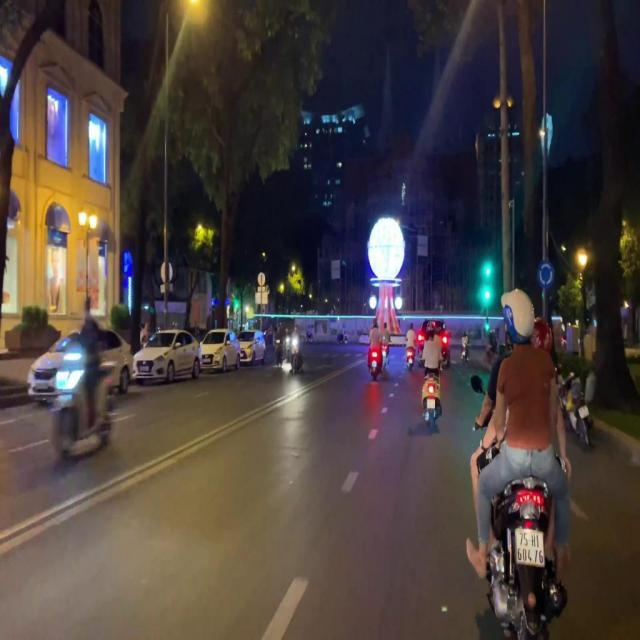noi_giao_nhau_chay_theo_vong: (538, 261, 554, 288)
